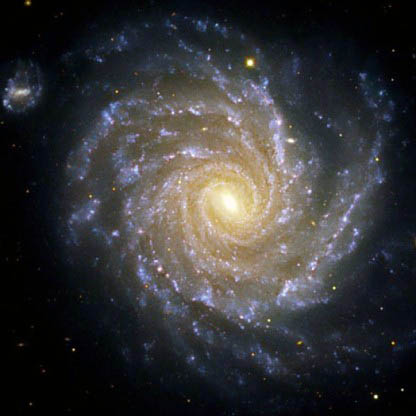NGC 1232: (6, 15, 403, 398)
